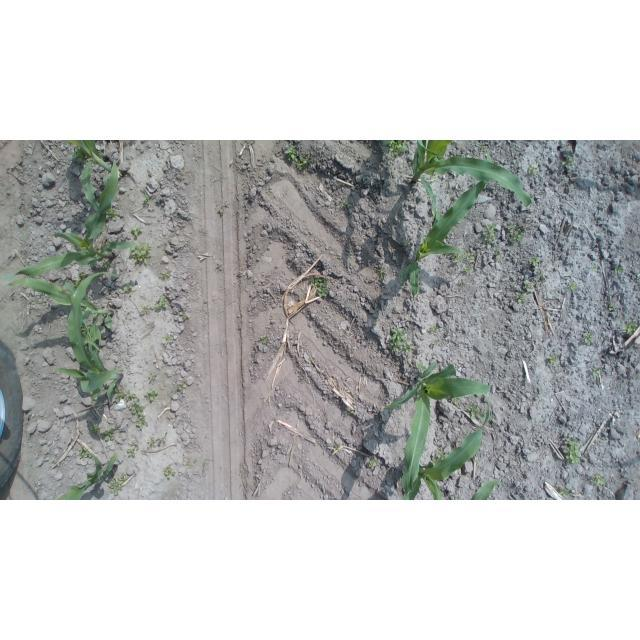Maize: (376, 356, 491, 500), (6, 160, 134, 284), (399, 173, 497, 306), (6, 276, 128, 379), (396, 142, 536, 218), (52, 275, 126, 418), (406, 400, 497, 501), (62, 140, 127, 222), (49, 446, 125, 500)
Weeds: (387, 327, 414, 358), (561, 439, 583, 466), (128, 243, 152, 266), (130, 402, 149, 431), (503, 221, 526, 243), (309, 275, 329, 300), (110, 387, 140, 403), (382, 141, 410, 158), (107, 473, 126, 497), (483, 221, 497, 247), (465, 403, 483, 421), (431, 449, 450, 465), (147, 432, 166, 448), (560, 154, 577, 171), (295, 155, 311, 173), (154, 296, 171, 312), (73, 271, 90, 287), (172, 379, 189, 394), (339, 198, 354, 215), (142, 387, 160, 401), (365, 458, 384, 471), (163, 464, 178, 480), (101, 429, 118, 443), (546, 353, 563, 367), (78, 446, 94, 460), (283, 145, 297, 161), (120, 284, 137, 297), (178, 306, 191, 322), (525, 164, 541, 177), (124, 443, 137, 459), (624, 323, 638, 337), (588, 367, 602, 381), (592, 473, 605, 488), (522, 279, 535, 294), (557, 486, 573, 498), (340, 406, 356, 418), (163, 334, 177, 347), (139, 304, 153, 317), (157, 268, 171, 281), (582, 332, 596, 345), (328, 440, 342, 452), (129, 226, 143, 238), (528, 256, 540, 269), (567, 280, 580, 292), (516, 293, 528, 306), (460, 264, 474, 275), (147, 372, 159, 384), (450, 252, 462, 264), (416, 362, 428, 374), (89, 423, 102, 434), (100, 260, 110, 273), (465, 251, 478, 261), (215, 263, 226, 274), (491, 248, 502, 259), (306, 356, 316, 368), (261, 337, 271, 347), (430, 325, 439, 336), (377, 267, 385, 279), (611, 265, 623, 273), (401, 238, 409, 250), (185, 459, 194, 469), (590, 263, 598, 273), (607, 301, 615, 311), (451, 397, 461, 404), (144, 193, 151, 203), (432, 339, 440, 346), (201, 228, 207, 236)
